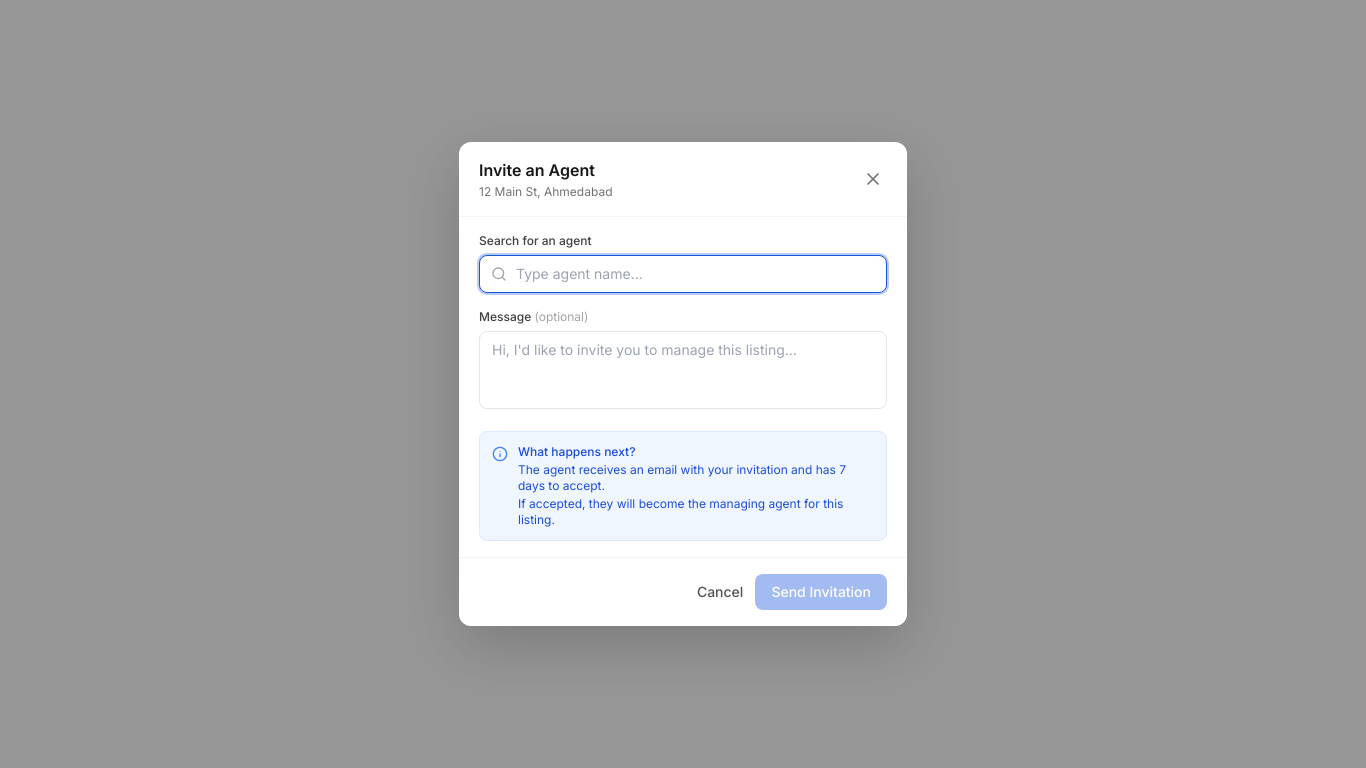
it: InviteAgentModal › shows search results when typing 2+ characters
The image size is (1366, 768).
Type "Ra" into the field with placeholder "Type agent name…".
click(683, 274); type("Ra")  # box [479,255,887,293]
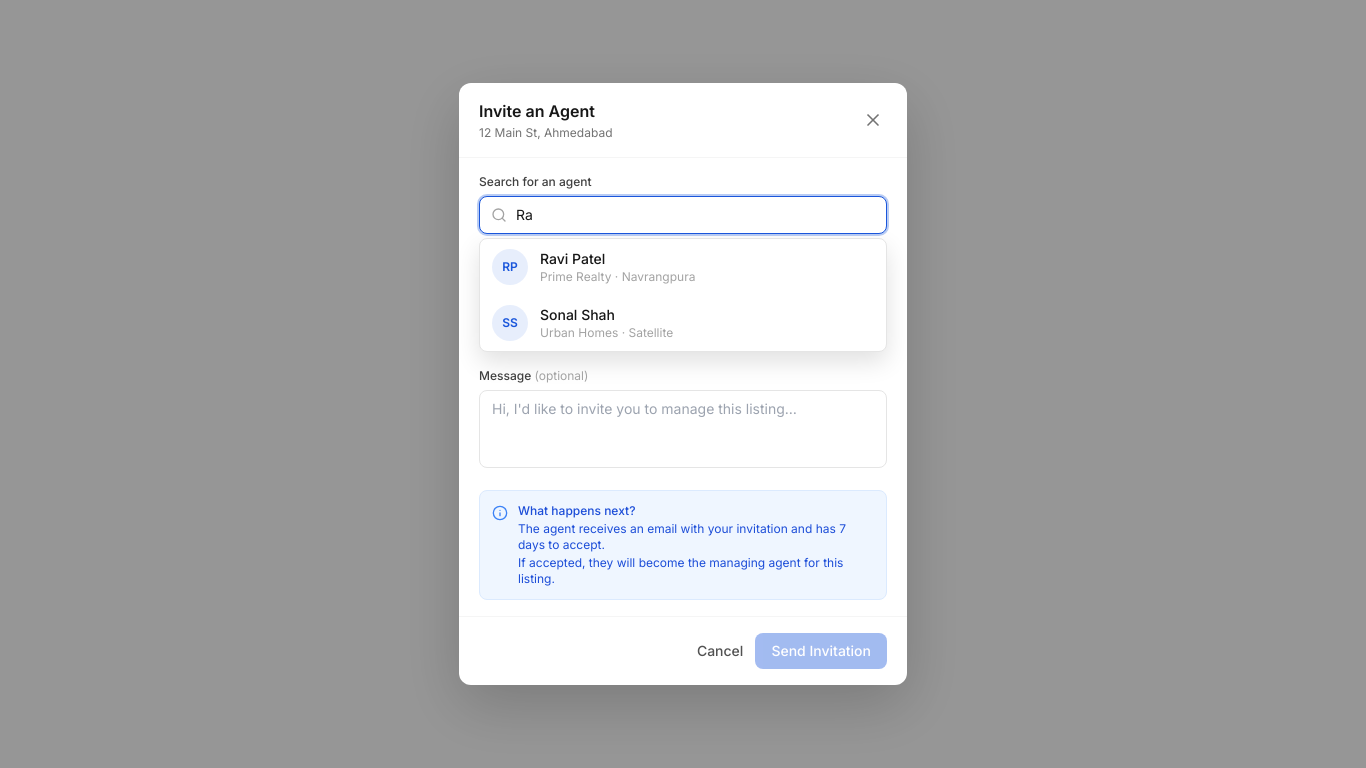
Expected: the text "Ravi Patel" is shown, [540,250,605,267]
Expected: the text "Prime Realty · Navrangpura" is shown, [540,269,695,285]
